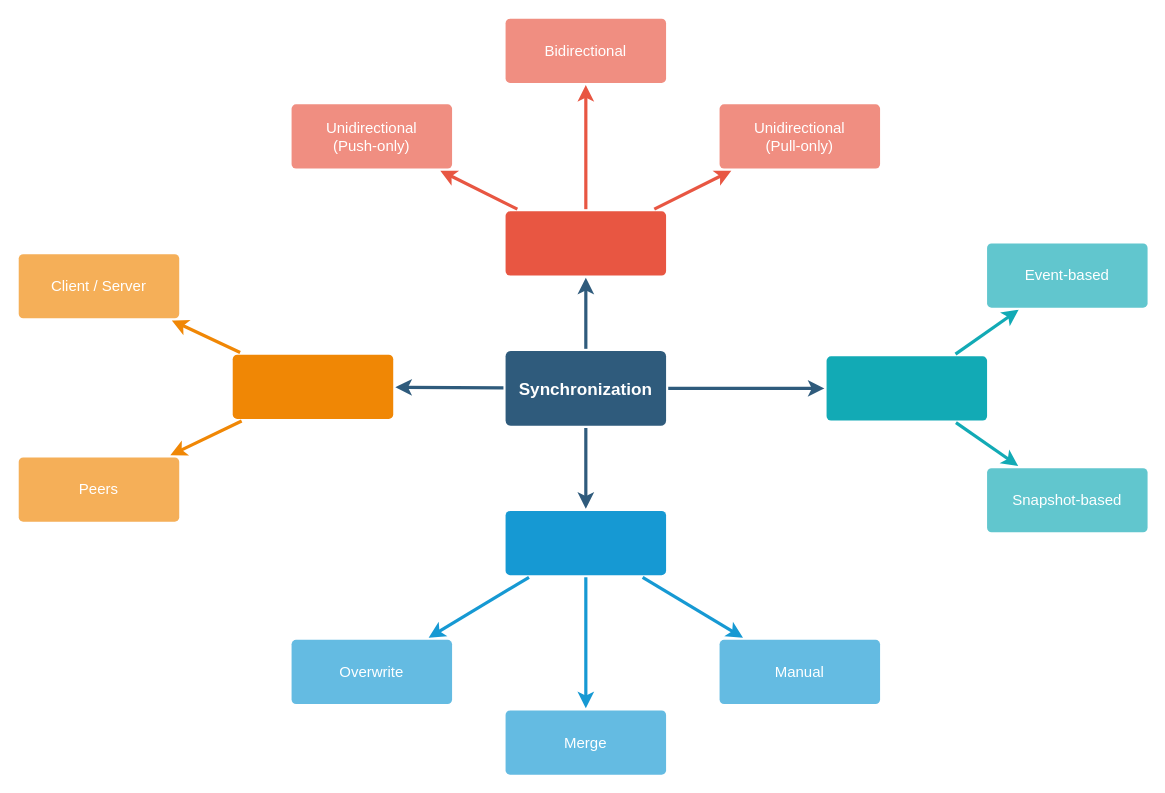
Image size: 1165x793. Some labels were removed from this diagram. The centre of each missing label's shape, as x and y in pixels:
"Conflict-Resolution Mechanism" belongs at point 585,542.
"Data Flow" belongs at point 585,243.
"Roles" belongs at point 312,386.
"Timing" belongs at point 906,388.
